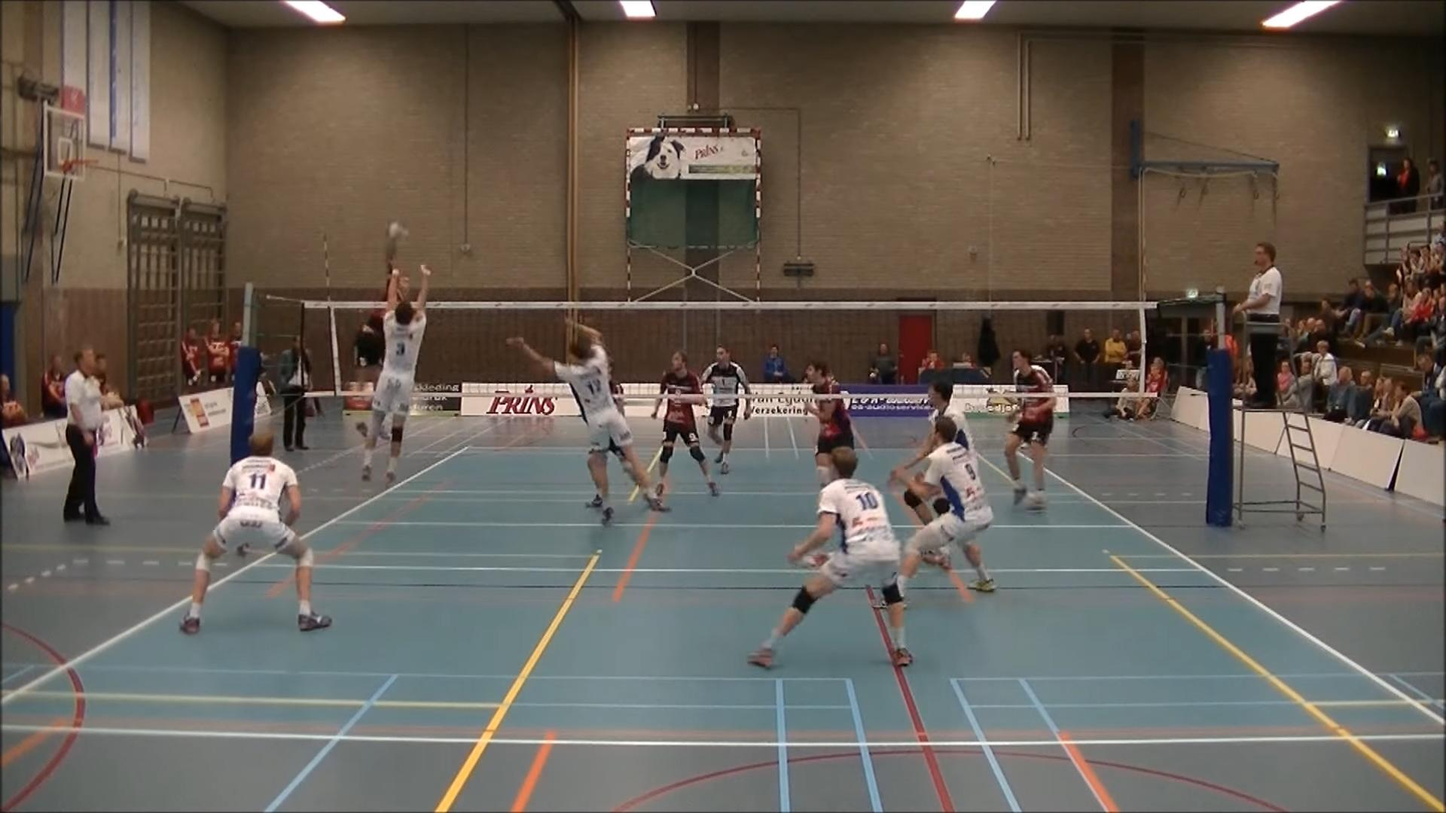Attack: (354, 226, 401, 407)
Block: (506, 315, 661, 522), (354, 258, 432, 487)
Player: (749, 447, 912, 668), (180, 431, 331, 634), (891, 415, 994, 592), (651, 350, 718, 498), (1004, 349, 1055, 509), (900, 379, 976, 470), (700, 346, 752, 474), (807, 397, 854, 486), (608, 360, 625, 416)
ball: (379, 221, 409, 245)
